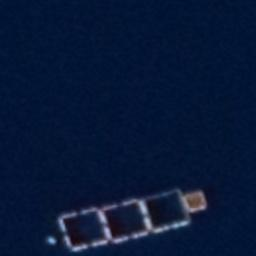square_solid: (94, 192, 155, 248), (136, 183, 198, 238), (53, 203, 115, 255)
